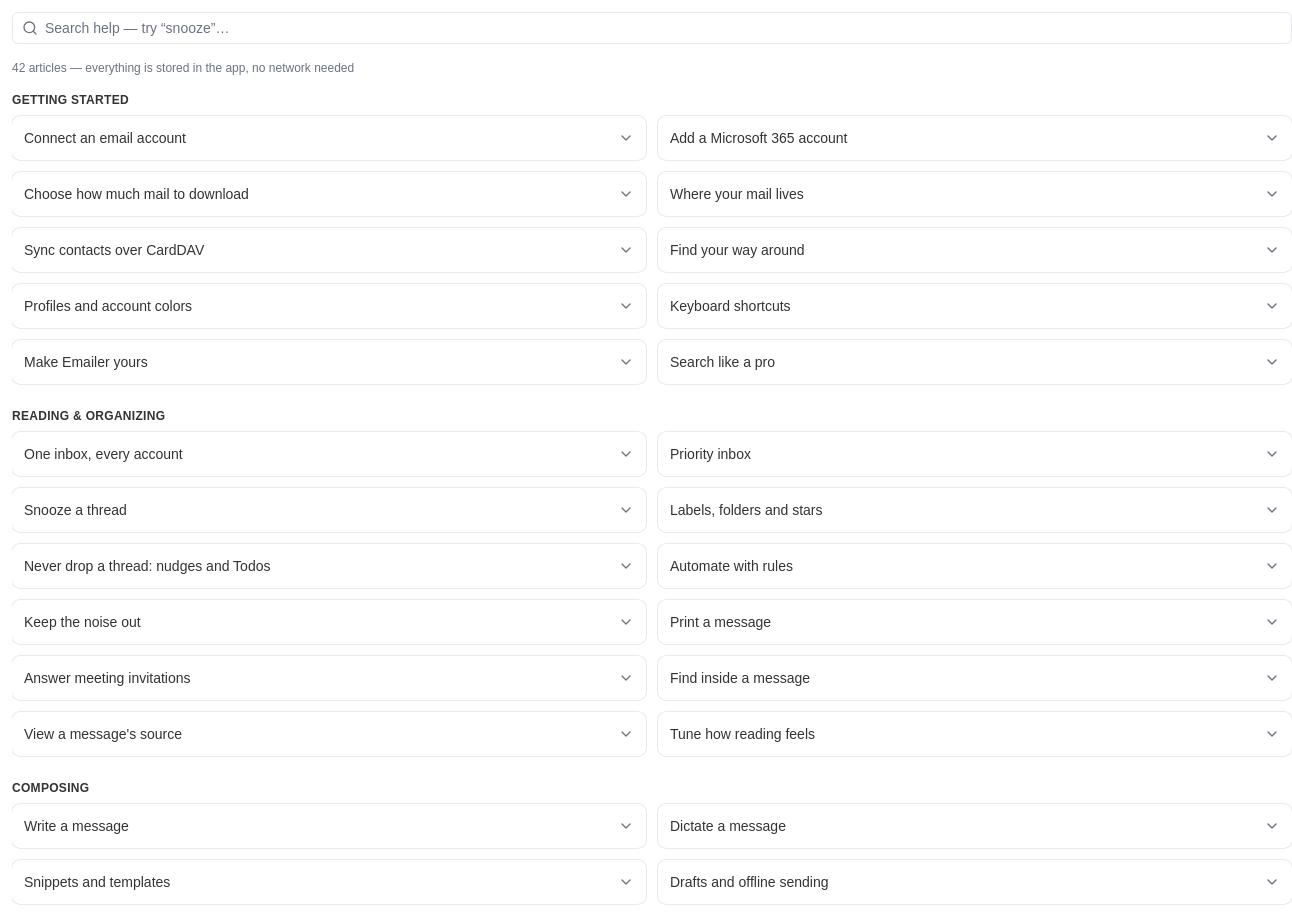
Test: HelpCenter › cards expand and collapse on click when browsing
The width and height of the screenshot is (1292, 912).
Click the button with test id "help-card-toggle-snooze". click: (75,510)
box: [12,488,646,532]
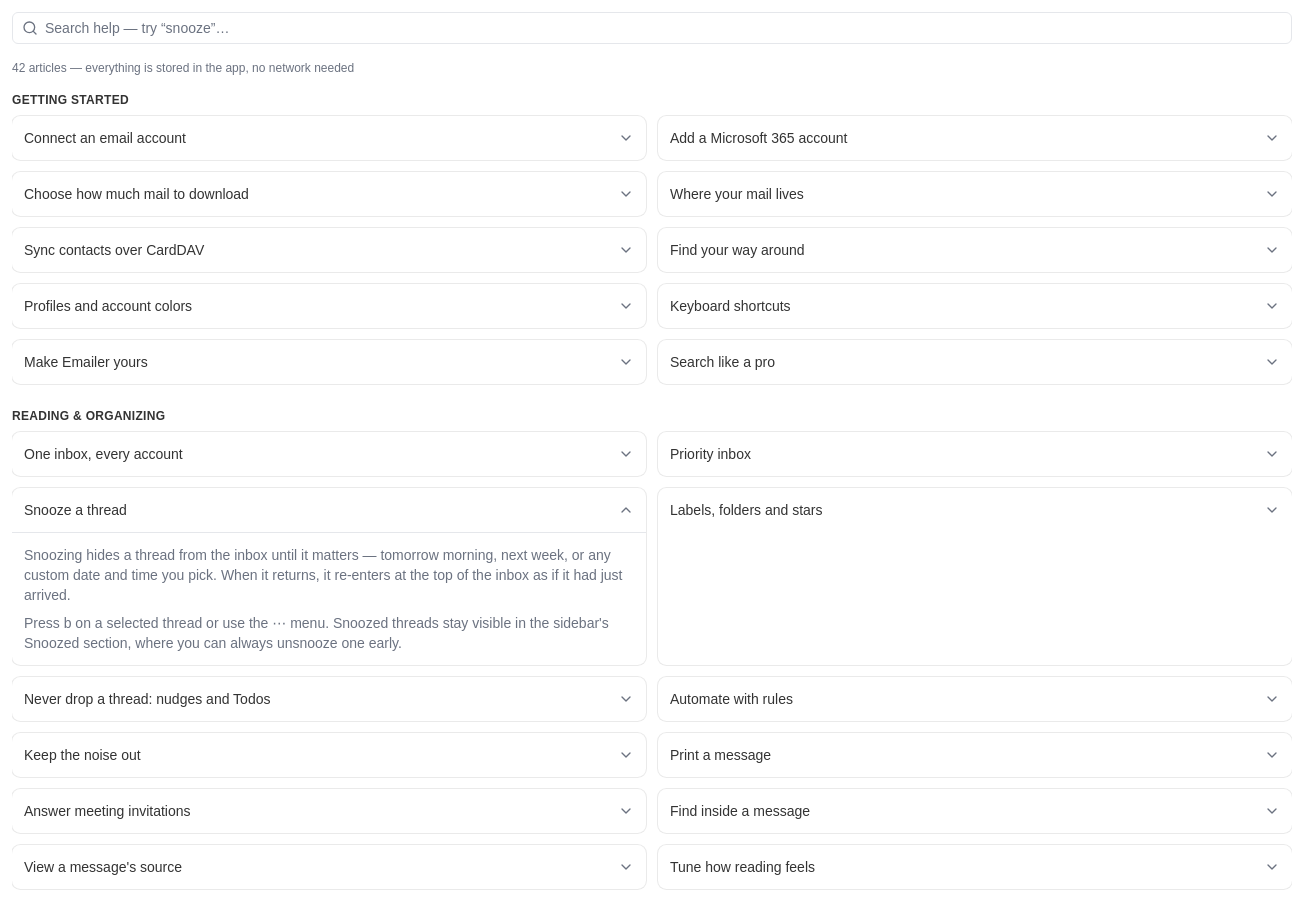
expect the element with test id "help-card-body-snooze" is shown: met, box [12,532,646,665]
expect the button with test id "help-card-toggle-snooze" is expanded: met
Click the button with test id "help-card-toggle-snooze". click: (75,510)
box: [12,488,646,532]
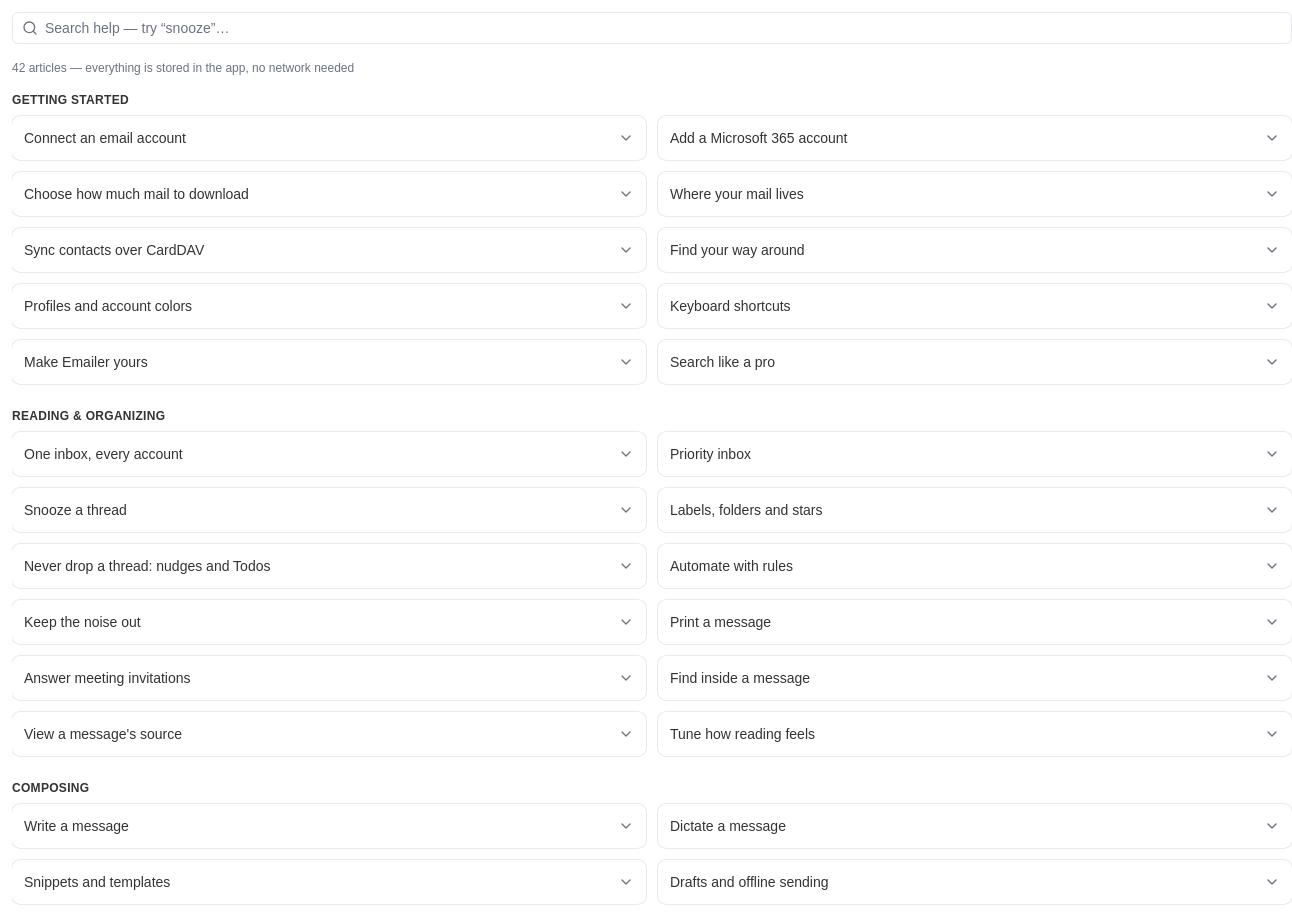
expect the element with test id "help-card-body-snooze" is gone: met
